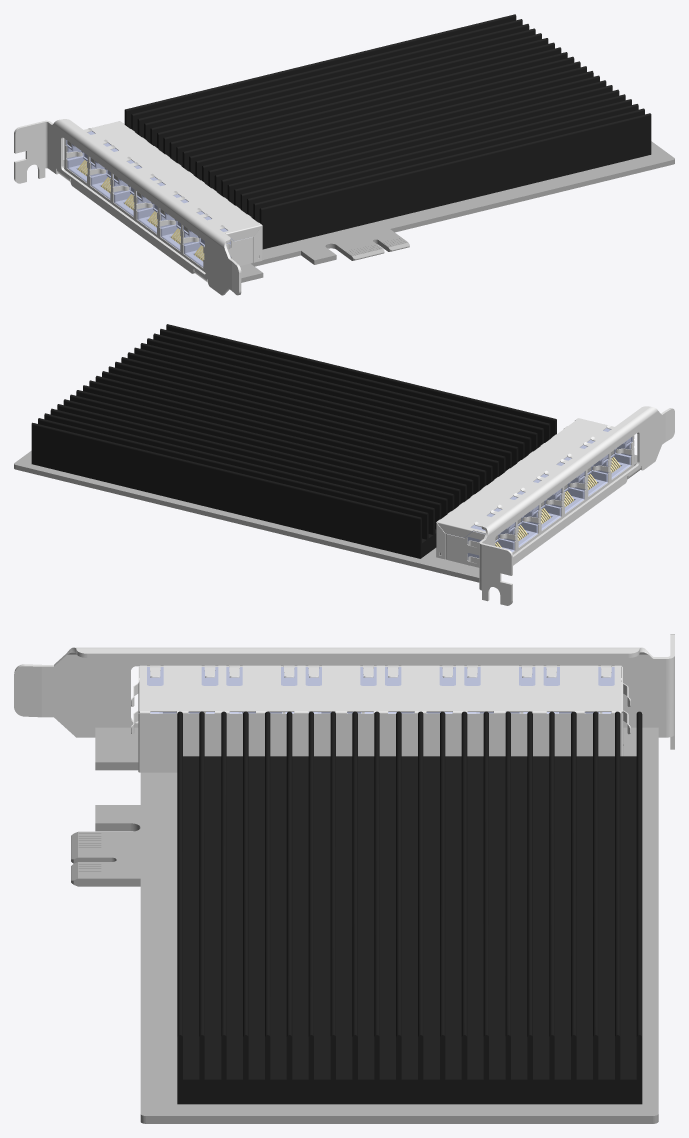
Rendered from nic-mellanox-cx6-2x100g-pcie.glb.
The picture shows the model from 3 angles, top to bottom: view 1: azimuth 30°, elevation 25°; view 2: azimuth 150°, elevation 25°; view 3: azimuth 270°, elevation 25°; orthographic projection. The views are drawn at different scales.
Visible parts, largest first — view 1: SPEC-PC-PCIe-KEEPOUT-STD-HALF-TOP, STD-PC-PCIe-BRACKET-SPEC, STD-PC-PCIe-GENERIC-PCB_PCIe-1x-STD-HALF, shell_1_1x6, 1X1RJ45-housing_-¦L¡ (×6); view 2: SPEC-PC-PCIe-KEEPOUT-STD-HALF-TOP, STD-PC-PCIe-BRACKET-SPEC, shell_1_1x6, STD-PC-PCIe-GENERIC-PCB_PCIe-1x-STD-HALF, 1X1RJ45-housing_-¦L¡ (×6); view 3: SPEC-PC-PCIe-KEEPOUT-STD-HALF-TOP, shell_1_1x6, STD-PC-PCIe-GENERIC-PCB_PCIe-1x-STD-HALF, STD-PC-PCIe-BRACKET-SPEC.
Boxes of the visible parts, x1,y1,x2,y2 form: SPEC-PC-PCIe-KEEPOUT-STD-HALF-TOP: [124, 14, 651, 249]; STD-PC-PCIe-BRACKET-SPEC: [14, 119, 241, 295]; STD-PC-PCIe-GENERIC-PCB_PCIe-1x-STD-HALF: [63, 141, 674, 282]; shell_1_1x6: [64, 121, 262, 272]; 1X1RJ45-housing_-¦L¡ (×6): [65, 131, 251, 267]; SPEC-PC-PCIe-KEEPOUT-STD-HALF-TOP: [31, 324, 556, 558]; STD-PC-PCIe-BRACKET-SPEC: [479, 406, 674, 605]; shell_1_1x6: [436, 418, 634, 567]; STD-PC-PCIe-GENERIC-PCB_PCIe-1x-STD-HALF: [14, 450, 637, 582]; 1X1RJ45-housing_-¦L¡ (×6): [448, 428, 632, 560]; SPEC-PC-PCIe-KEEPOUT-STD-HALF-TOP: [177, 711, 642, 1104]; shell_1_1x6: [131, 665, 630, 772]; STD-PC-PCIe-GENERIC-PCB_PCIe-1x-STD-HALF: [71, 727, 658, 1123]; STD-PC-PCIe-BRACKET-SPEC: [14, 634, 674, 749].
Size of the model in its own units: 181 by 21.59 by 121.
